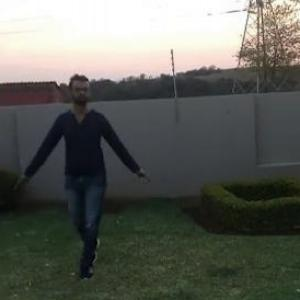land: (13, 70, 141, 285)
